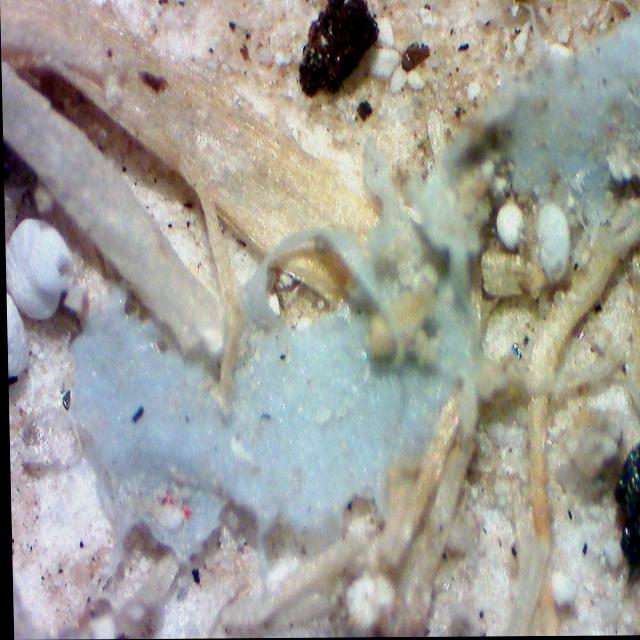microplastic: (0, 0, 640, 638)
